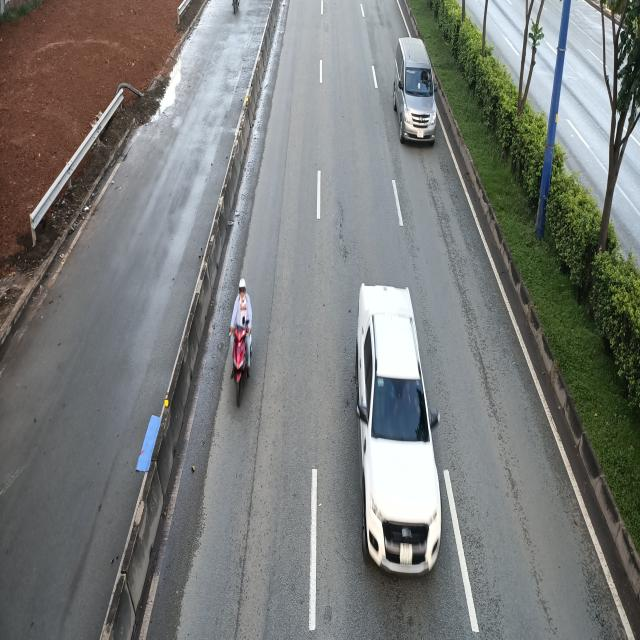car: (355, 287, 440, 581), (394, 37, 438, 146)
